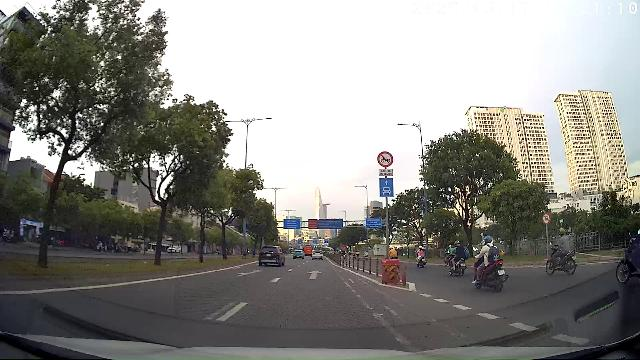103a-cam-oto: (541, 212, 551, 223)
